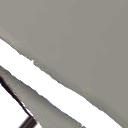crackTip: (1, 65, 84, 128)
